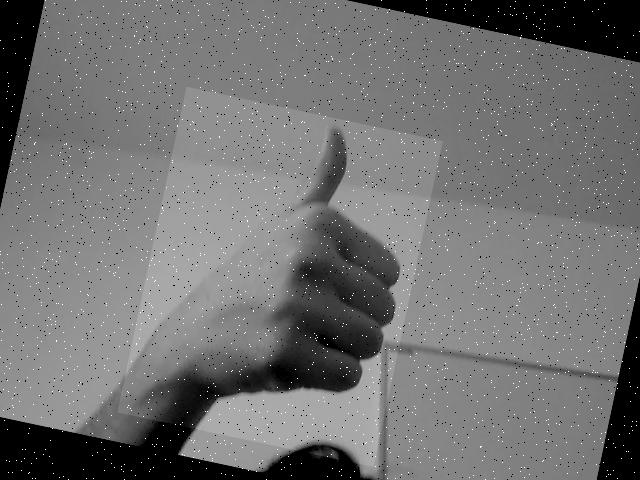good: (121, 121, 412, 428)
